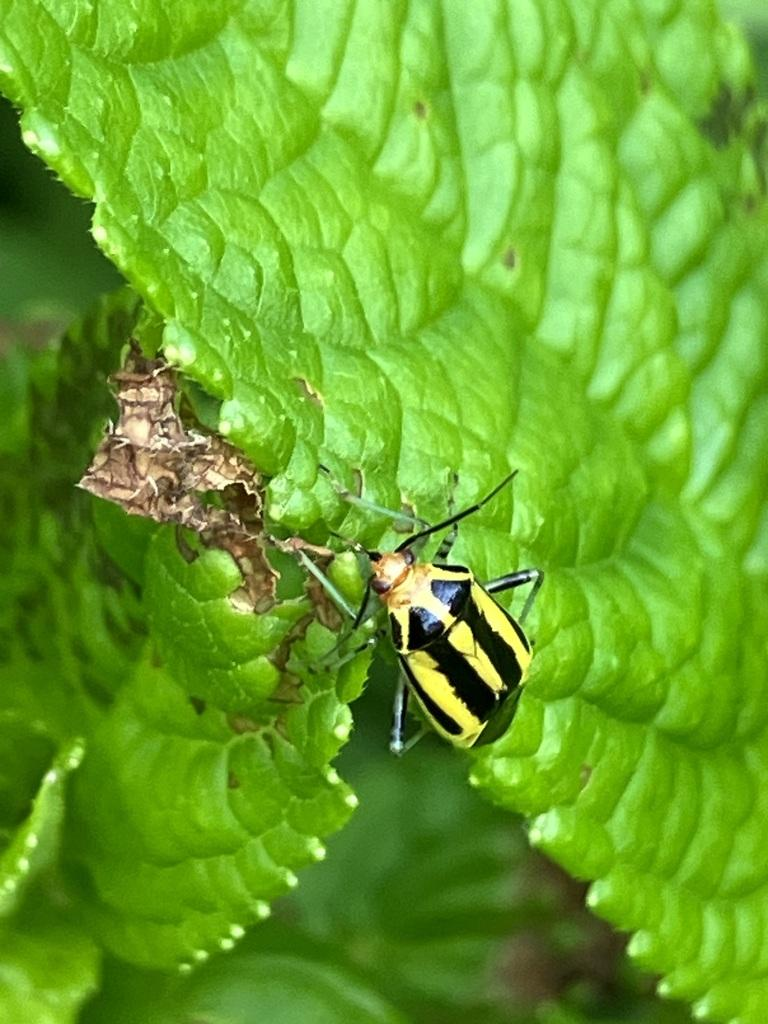plant_bugs: (267, 439, 609, 784)
